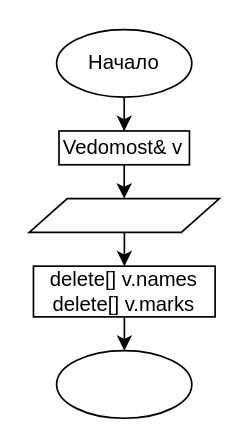
This 250x448 diagram has some shape labels left out. The centre of each missing label's shape, as x and y in pixels:
"Конец" belongs at point (123, 383).
"Получение v" belongs at point (123, 214).
